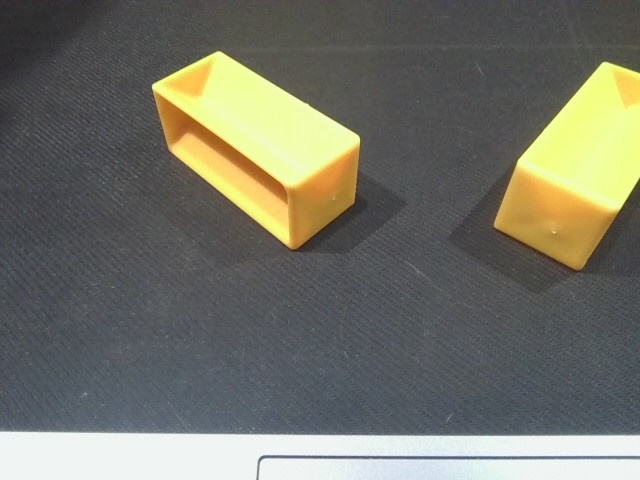YellowSample: (145, 45, 367, 254), (491, 58, 640, 281)
